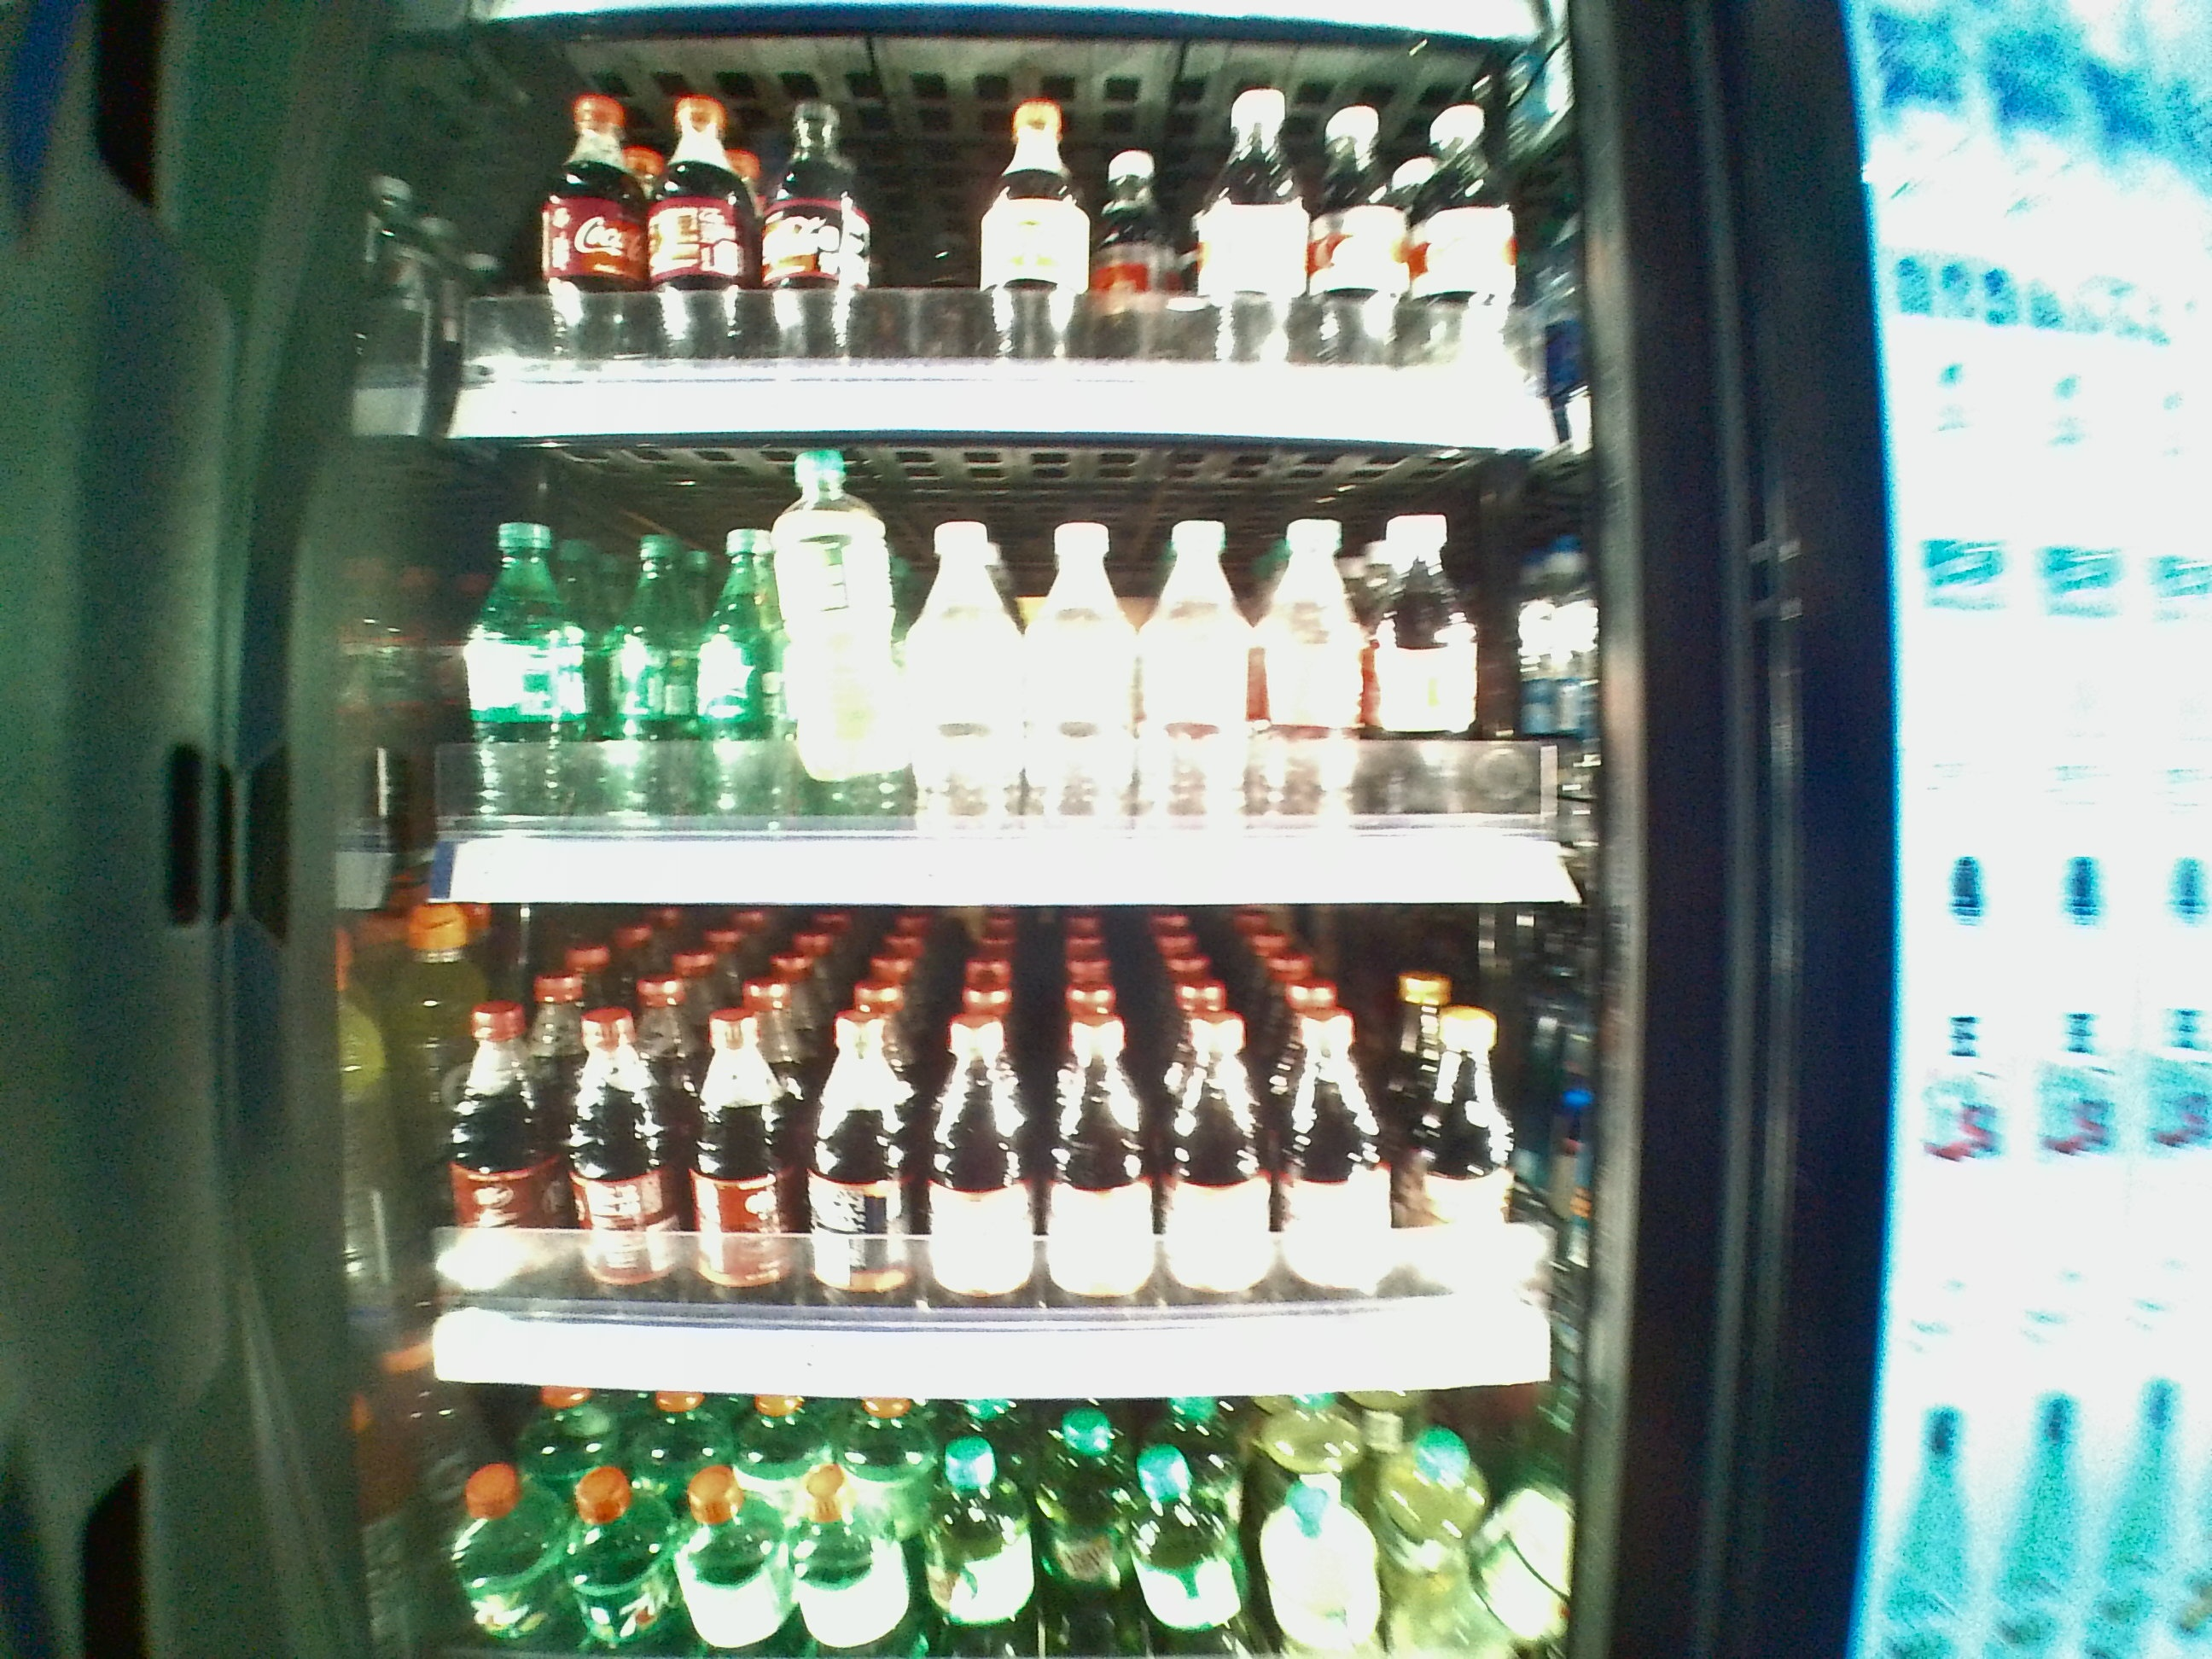shelf: (411, 913, 1606, 1396), (434, 437, 1599, 913)
